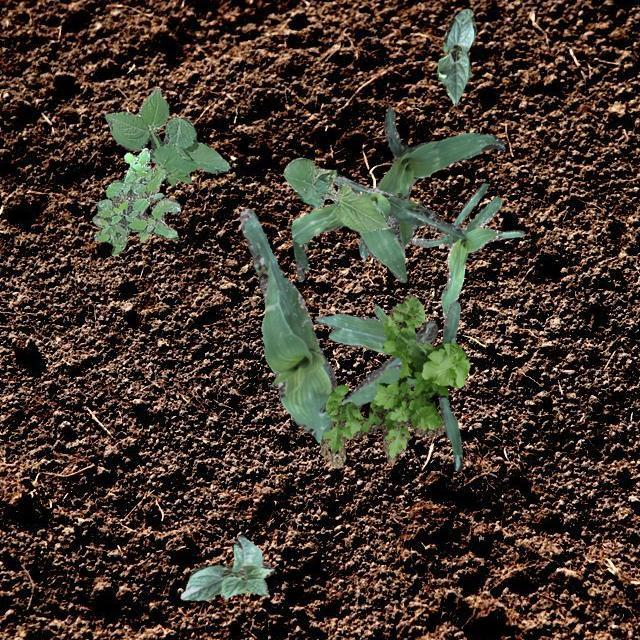crop: (238, 208, 436, 442), (314, 300, 462, 470), (358, 104, 503, 260), (290, 175, 466, 282), (409, 182, 524, 318), (282, 156, 391, 232), (180, 534, 274, 600), (436, 8, 474, 104)
weed: (320, 294, 468, 466), (102, 86, 228, 185), (92, 146, 178, 255)
